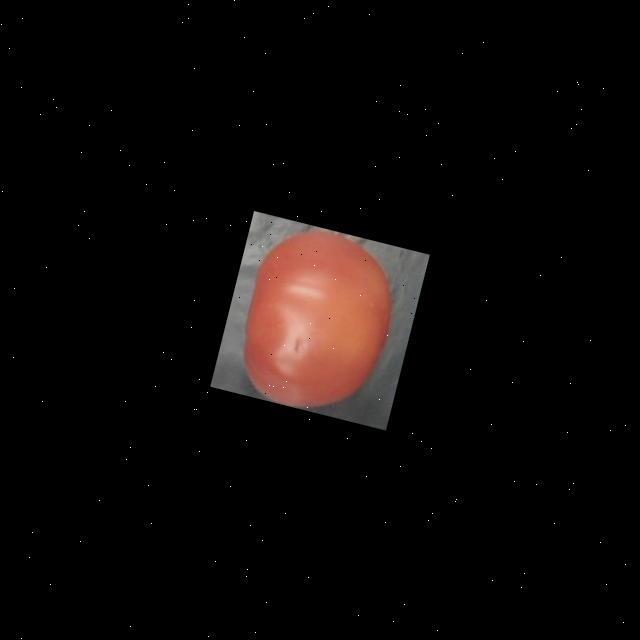tomato: (227, 214, 410, 424)
